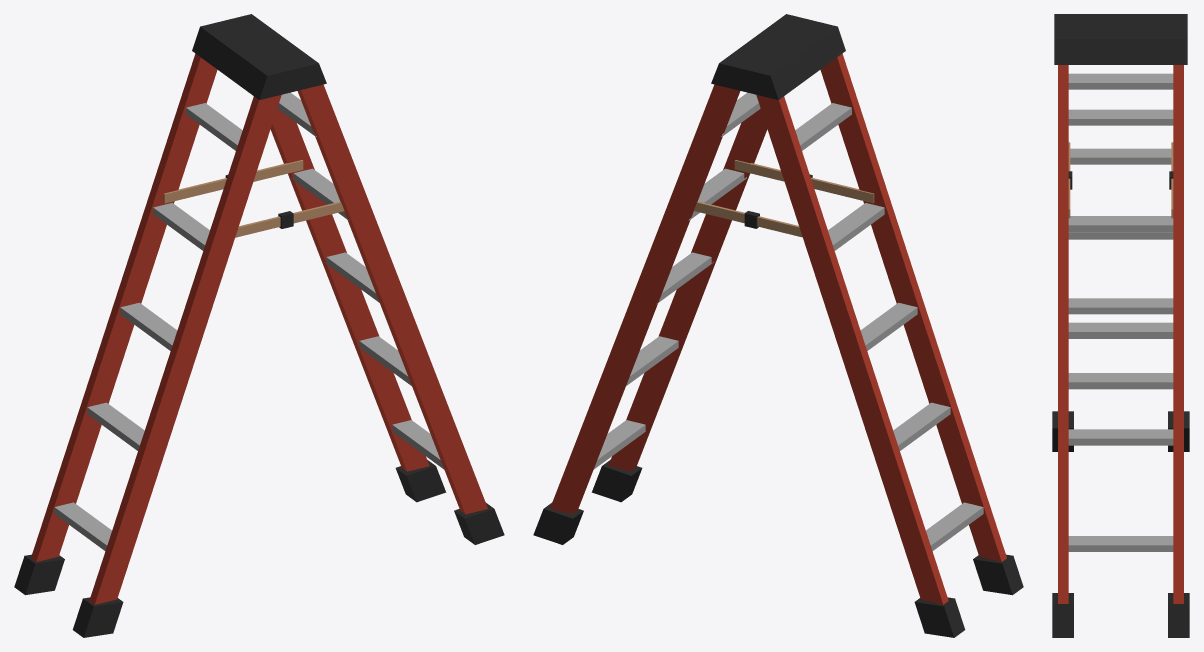
Rendered from ladder.fbx.
The picture shows the model from 3 angles, left to right: view 1: azimuth 30°, elevation 25°; view 2: azimuth 150°, elevation 25°; view 3: azimuth 270°, elevation 25°; orthographic projection.
Visible parts, largest first — view 1: pCube34; view 2: pCube34; view 3: pCube34.
Boxes of the visible parts, x1,y1,x2,y2 form: pCube34: (14, 14, 504, 637); pCube34: (533, 14, 1023, 637); pCube34: (1052, 14, 1189, 637).
Bounding box in the file's own units: 3.19 × 3.75 × 0.9097.
